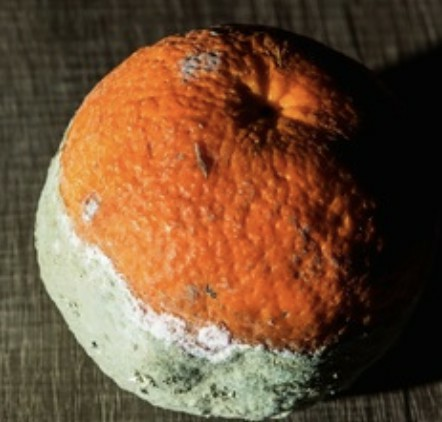rotten_orange: (38, 26, 429, 422)
